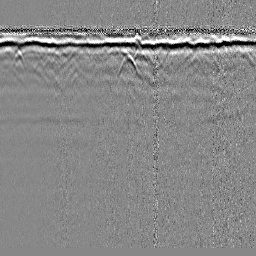cavity: (115, 52, 143, 79)
